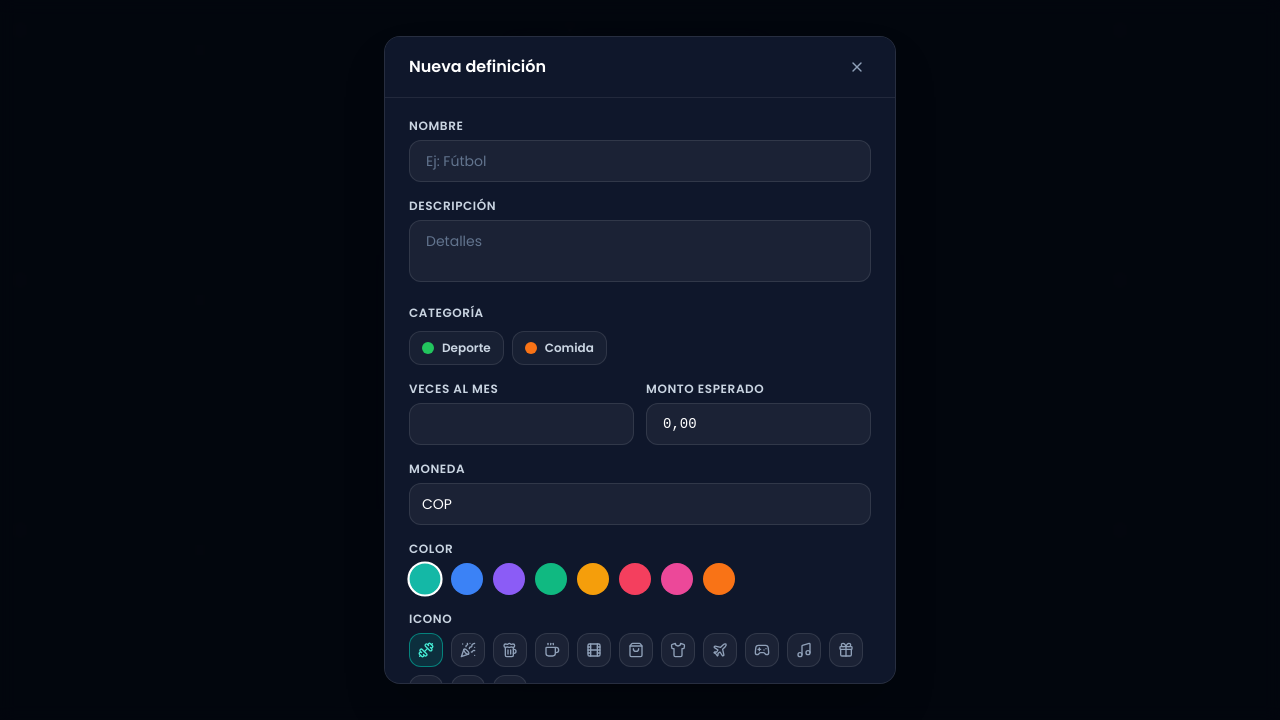
Test: VariableExpenseDefinitionModal › requires a category before submitting
The width and height of the screenshot is (1280, 720).
Expected: the 1st radio button labelled "Deporte" is shown, [409,331,504,365]
In the field labelled "Nombre": (640, 161) [409,140,871,182], type "Sin categoría"
(page scrolled)
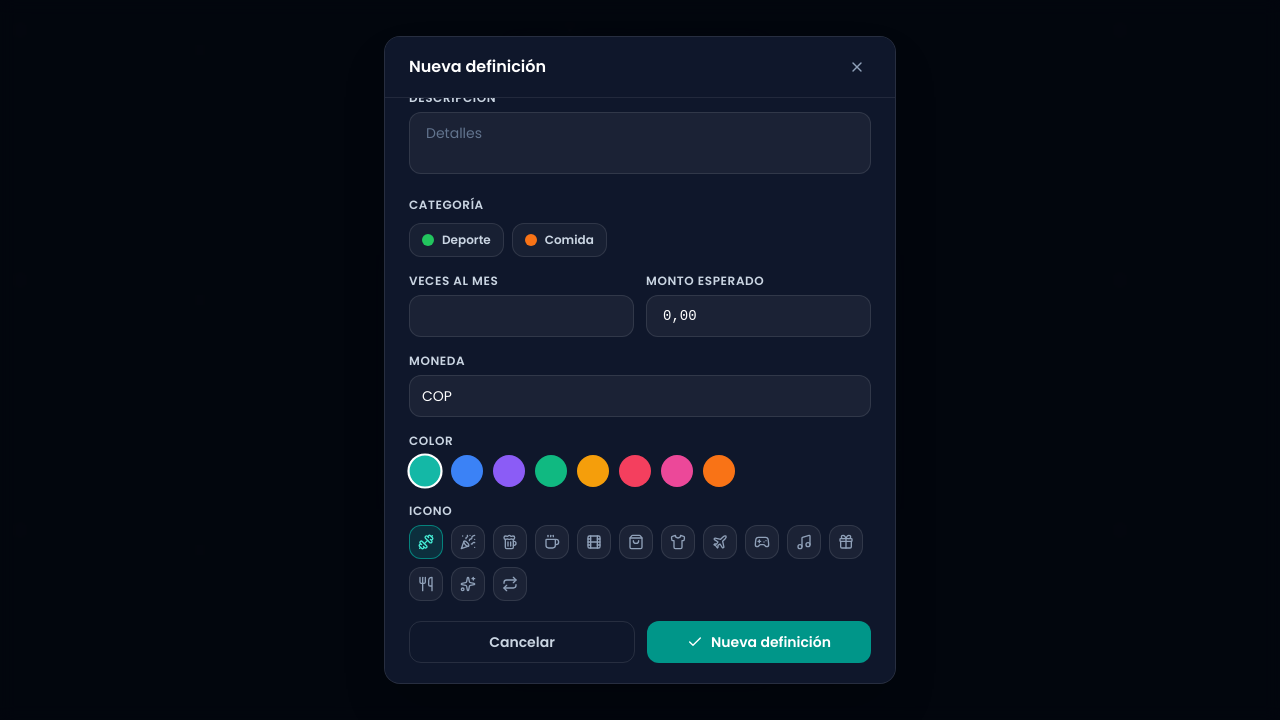
Click the submit button: (759, 642) [647,621,871,663]
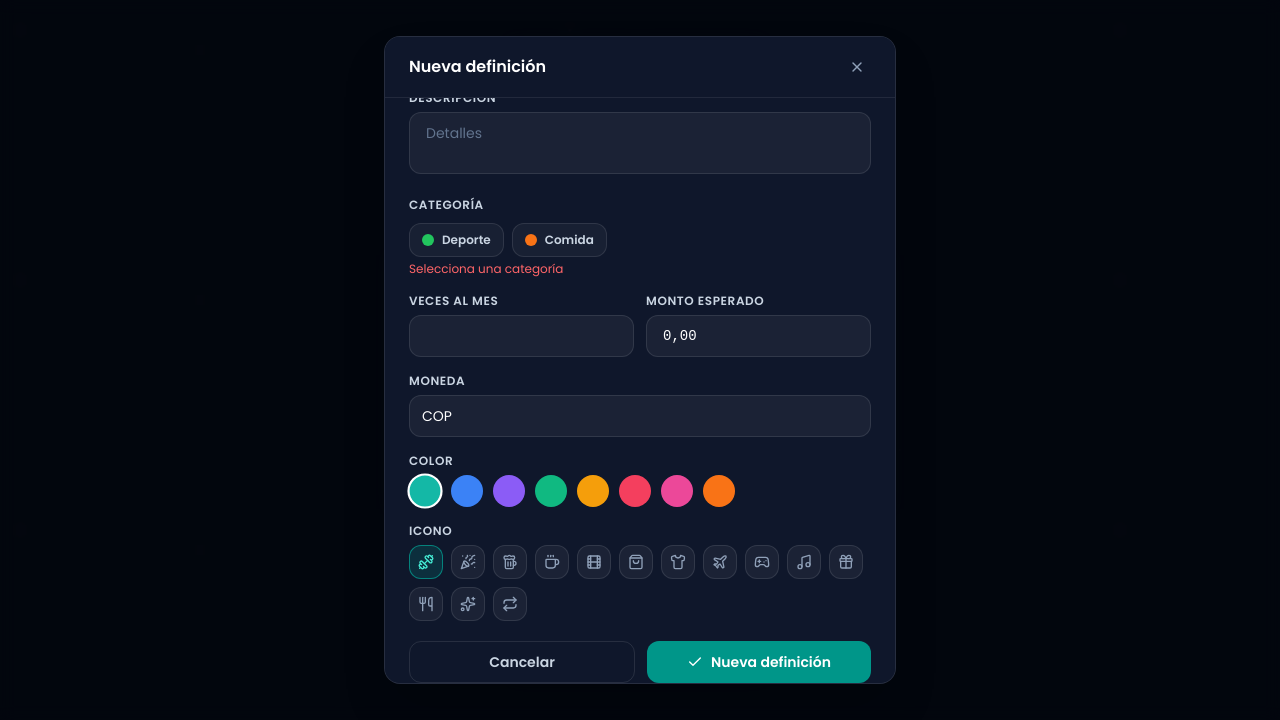
Expected: the text "Selecciona una categoría" is shown, [409,260,563,277]
